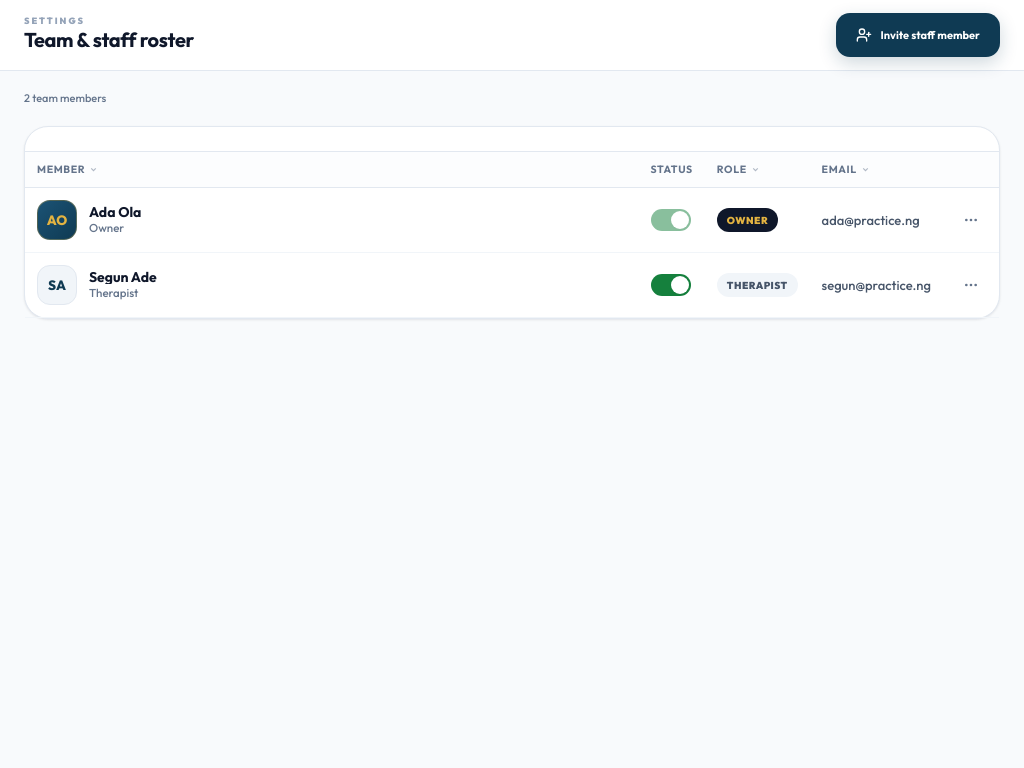
Test case: inviting a staff member › says the email went out when it did
The image size is (1024, 768).
Click the button "Invite staff member" at (918, 35), box [836, 13, 1000, 57]
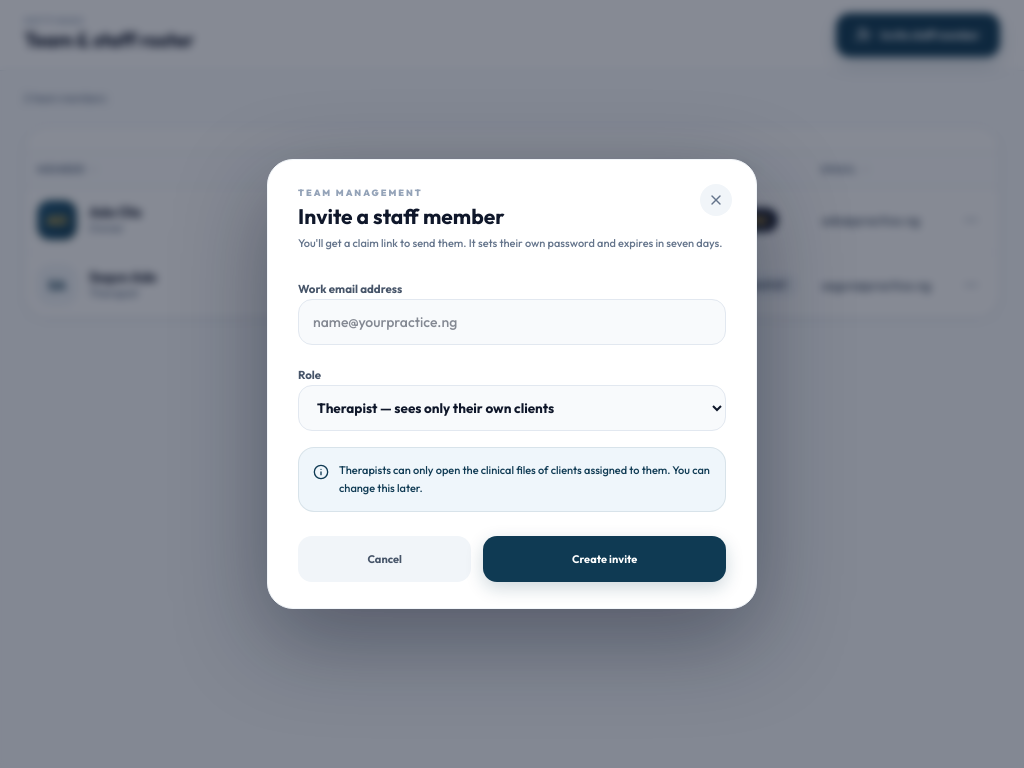
Type "new@practice.ng" into the field with placeholder "name@yourpractice.ng" at (512, 322), box [298, 299, 726, 345]
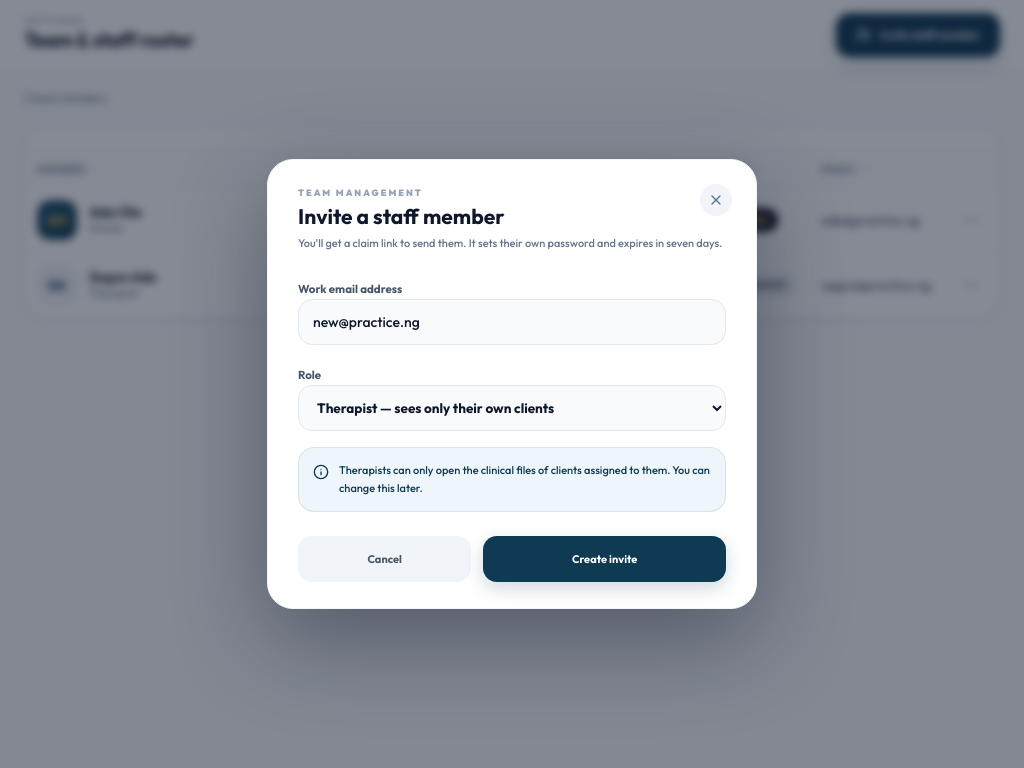
Click the button "Create invite" at (605, 559), box [483, 536, 726, 582]
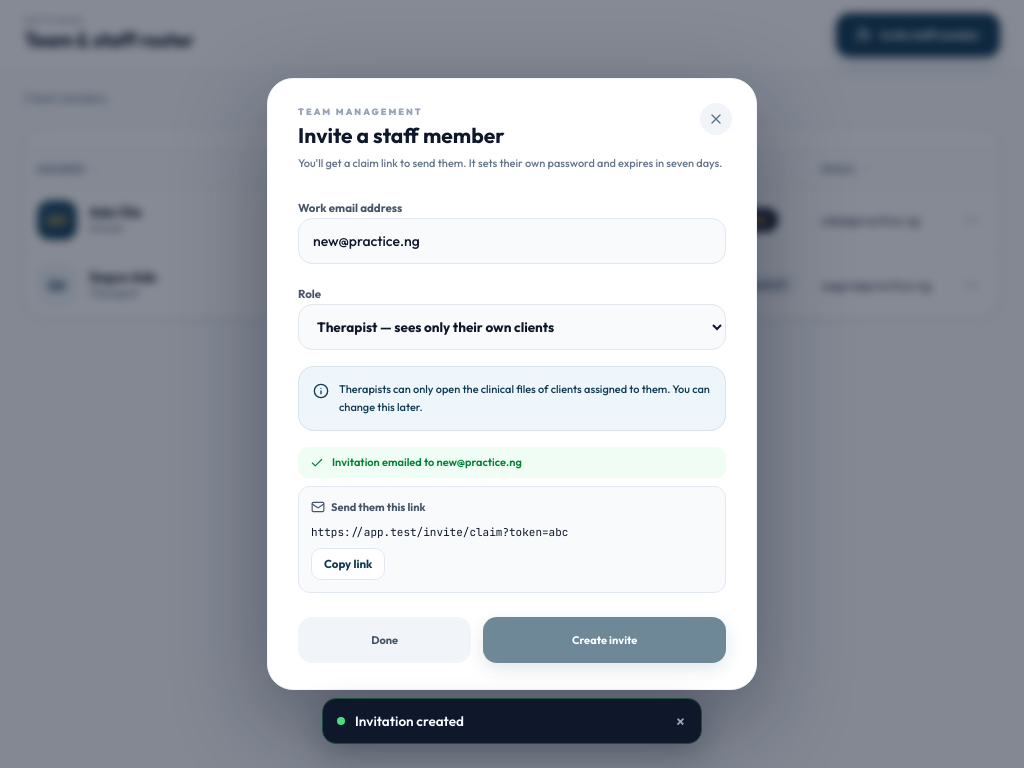
Expected: the text "Invitation emailed to new@practice.ng" is shown, [298, 447, 726, 478]
